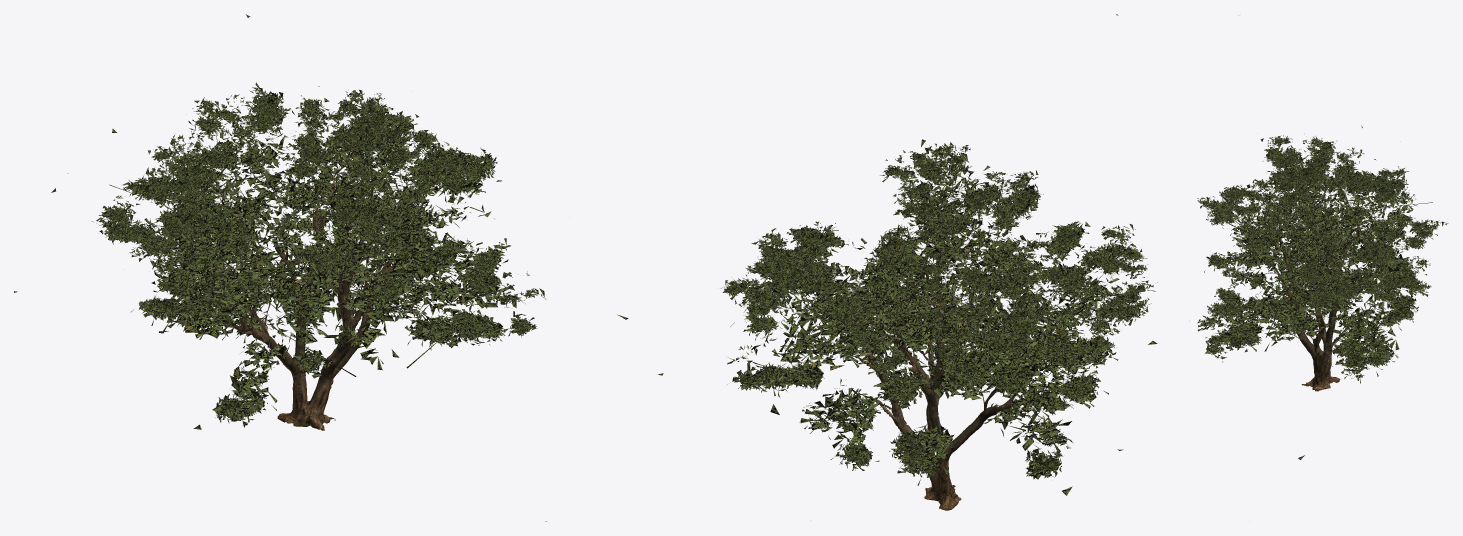
File: jacaranda_tree.gltf
3 renders of one model, left to right at view 1: azimuth 30°, elevation 25°; view 2: azimuth 150°, elevation 25°; view 3: azimuth 270°, elevation 25°, orthographic. The views are drawn at different scales.
Visible parts, largest first — view 1: jacaranda_tree_LOD0; view 2: jacaranda_tree_LOD0; view 3: jacaranda_tree_LOD0.
Boxes of the visible parts, <box> form: jacaranda_tree_LOD0: <box>14,14,628,521</box>; jacaranda_tree_LOD0: <box>658,14,1157,510</box>; jacaranda_tree_LOD0: <box>1197,125,1448,459</box>.
Size of the model in its own units: 33.51 by 34.44 by 20.04.
Materials: 3 (3 with a texture image).
